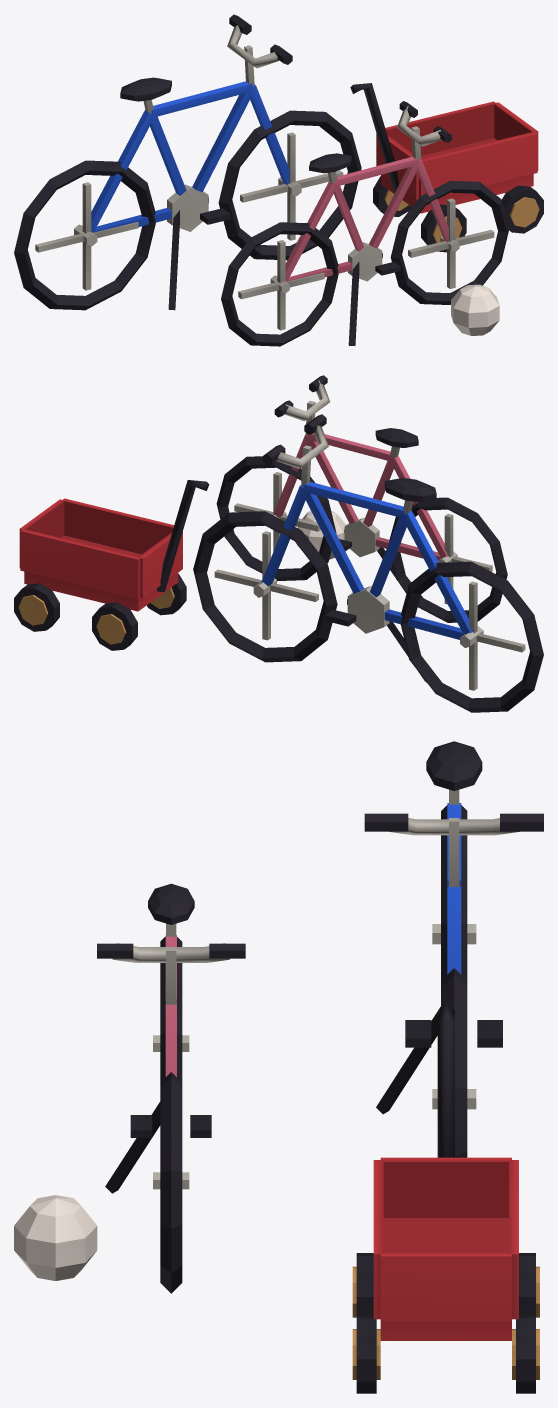
3 views of the same model, one above another, from view 1: azimuth 30°, elevation 25°; view 2: azimuth 150°, elevation 25°; view 3: azimuth 270°, elevation 25° (orthographic). The views are drawn at different scales.
Parts seen in each view (by area): view 1: root_pal_survivorRed, root_pal_uiDark, root_pal_policeBlue, wheel_rear_policeBlue_pal_uiDark, wheel_front_policeBlue_pal_uiDark, root_pal_flamingoPink, root_pal_silver, wheel_rear_flamingoPink_pal_uiDark, wheel_front_flamingoPink_pal_uiDark, root_pal_picketWhite, wheel_rear_policeBlue_pal_silver, wheel_front_policeBlue_pal_silver (+3 smaller); view 2: root_pal_survivorRed, root_pal_uiDark, root_pal_policeBlue, wheel_rear_policeBlue_pal_uiDark, wheel_front_policeBlue_pal_uiDark, root_pal_silver, root_pal_flamingoPink, wheel_rear_flamingoPink_pal_uiDark, wheel_front_flamingoPink_pal_uiDark, wheel_front_policeBlue_pal_silver, root_pal_brass, wheel_rear_policeBlue_pal_silver (+3 smaller); view 3: root_pal_survivorRed, root_pal_uiDark, root_pal_picketWhite, wheel_front_flamingoPink_pal_uiDark, root_pal_silver, wheel_front_policeBlue_pal_uiDark, wheel_rear_policeBlue_pal_uiDark, root_pal_policeBlue, wheel_rear_flamingoPink_pal_uiDark, root_pal_brass, root_pal_flamingoPink.
Part boxes in pixels (x1=…): root_pal_survivorRed: x1=376, y1=101, x2=538, y2=213; root_pal_uiDark: x1=120, y1=14, x2=543, y2=345; root_pal_policeBlue: x1=91, y1=81, x2=289, y2=232; wheel_rear_policeBlue_pal_uiDark: x1=14, y1=160, x2=155, y2=310; wheel_front_policeBlue_pal_uiDark: x1=218, y1=110, x2=361, y2=260; root_pal_flamingoPink: x1=285, y1=156, x2=448, y2=281; root_pal_silver: x1=143, y1=25, x2=441, y2=281; wheel_rear_flamingoPink_pal_uiDark: x1=221, y1=222, x2=338, y2=346; wheel_front_flamingoPink_pal_uiDark: x1=390, y1=180, x2=509, y2=304; root_pal_picketWhite: x1=451, y1=284, x2=499, y2=335; wheel_rear_policeBlue_pal_silver: x1=35, y1=182, x2=138, y2=290; wheel_front_policeBlue_pal_silver: x1=240, y1=132, x2=343, y2=240; root_pal_survivorRed: x1=19, y1=498, x2=182, y2=611; root_pal_uiDark: x1=14, y1=375, x2=436, y2=682; root_pal_policeBlue: x1=261, y1=481, x2=472, y2=639; wheel_rear_policeBlue_pal_uiDark: x1=400, y1=561, x2=543, y2=712; wheel_front_policeBlue_pal_uiDark: x1=193, y1=511, x2=337, y2=662; root_pal_silver: x1=276, y1=380, x2=413, y2=633; root_pal_flamingoPink: x1=273, y1=433, x2=447, y2=560; wheel_rear_flamingoPink_pal_uiDark: x1=389, y1=497, x2=507, y2=622; wheel_front_flamingoPink_pal_uiDark: x1=216, y1=456, x2=336, y2=581; wheel_front_policeBlue_pal_silver: x1=214, y1=531, x2=318, y2=640; root_pal_brass: x1=18, y1=587, x2=174, y2=644; wheel_rear_policeBlue_pal_silver: x1=460, y1=581, x2=525, y2=690; root_pal_survivorRed: x1=373, y1=1157, x2=518, y2=1340; root_pal_uiDark: x1=97, y1=741, x2=543, y2=1393; root_pal_picketWhite: x1=14, y1=1195, x2=97, y2=1280; wheel_front_flamingoPink_pal_uiDark: x1=160, y1=1072, x2=182, y2=1293; root_pal_silver: x1=112, y1=789, x2=519, y2=1004; wheel_front_policeBlue_pal_uiDark: x1=441, y1=968, x2=467, y2=1157; wheel_rear_policeBlue_pal_uiDark: x1=441, y1=805, x2=467, y2=975; root_pal_policeBlue: x1=447, y1=803, x2=461, y2=974; wheel_rear_flamingoPink_pal_uiDark: x1=160, y1=936, x2=182, y2=1078; root_pal_brass: x1=352, y1=1266, x2=539, y2=1379; root_pal_flamingoPink: x1=165, y1=935, x2=176, y2=1076.
Bounding box in the file's own units: 2.41 × 1.07 × 1.33.
